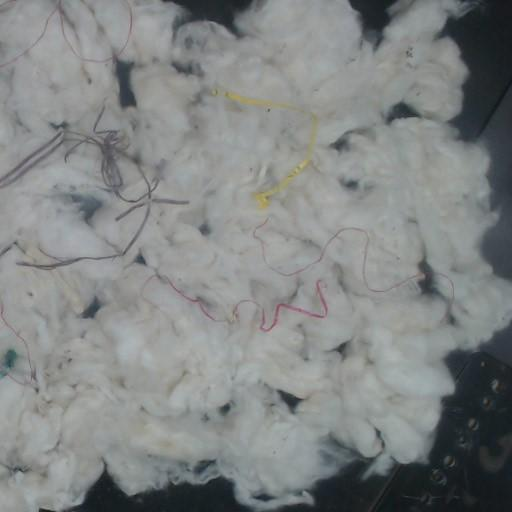cotton: (0, 0, 511, 511)
thread: (17, 169, 171, 269), (253, 218, 425, 294), (0, 106, 127, 188), (0, 0, 111, 69), (253, 112, 318, 208), (232, 278, 329, 332), (0, 298, 35, 382), (160, 275, 214, 319), (214, 89, 305, 110), (120, 0, 133, 54)
